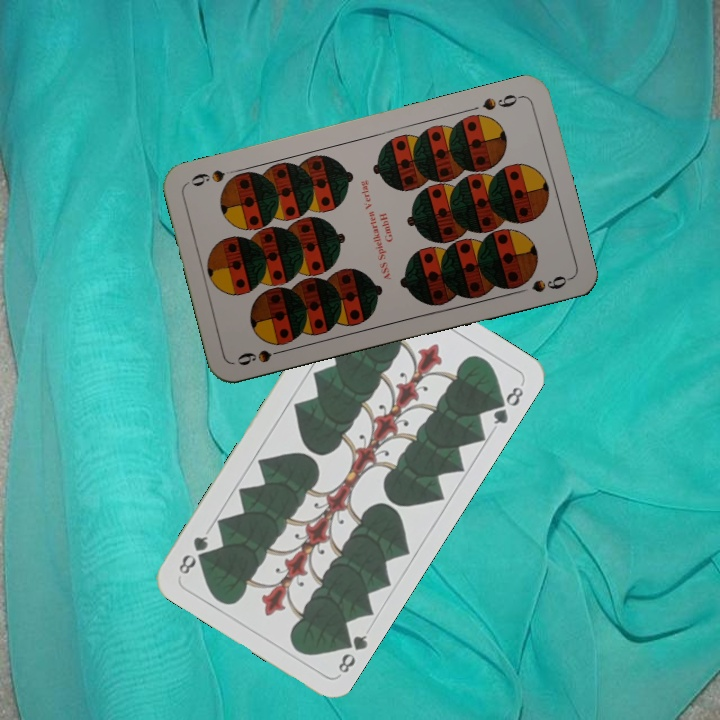G8: (334, 629, 371, 676)
S9: (233, 344, 291, 368), (478, 90, 525, 113)
